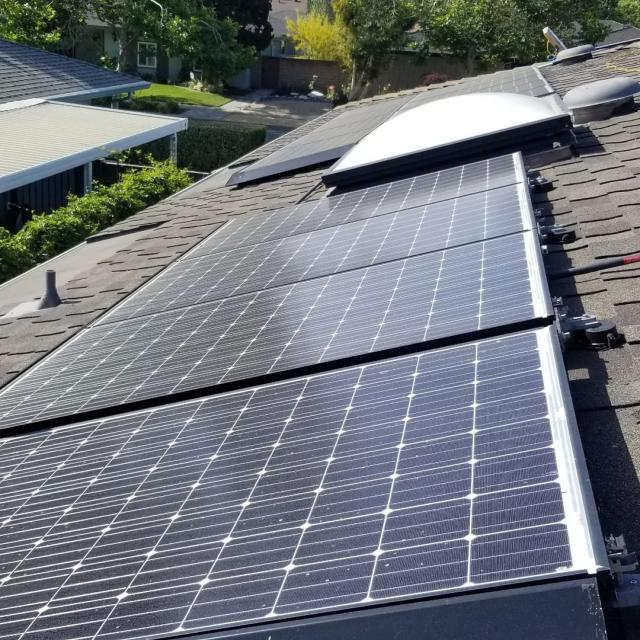dust-solar-panel: (0, 153, 577, 640)
